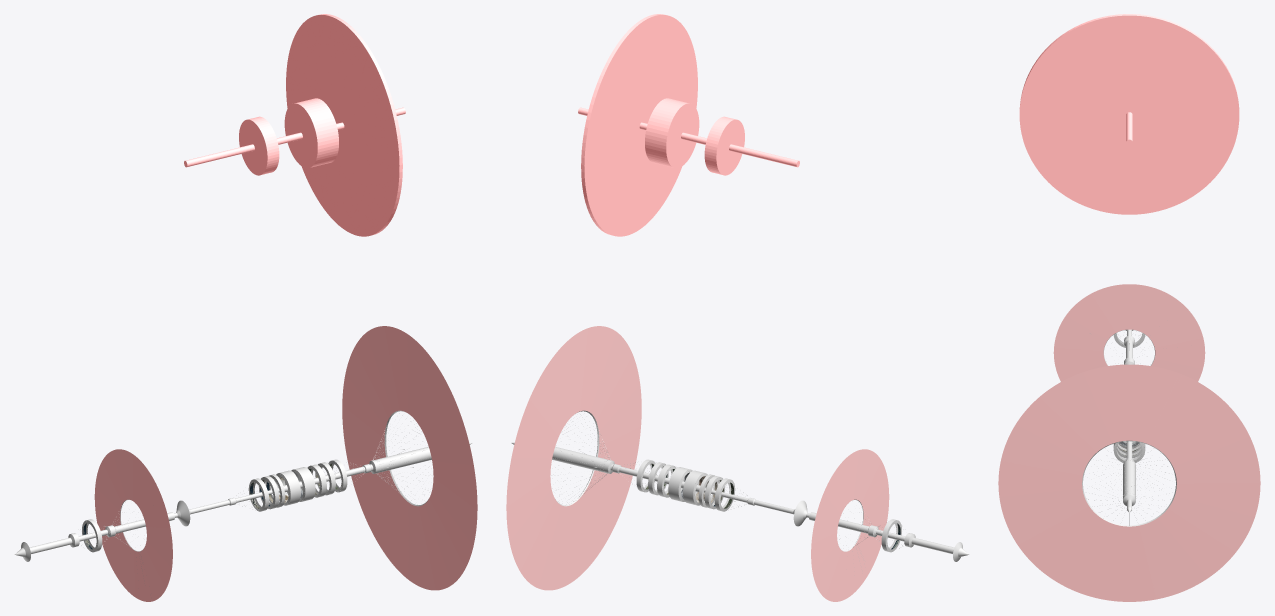
The model's file is Coriolis6.glb.
The picture shows the model from 3 angles, left to right: view 1: azimuth 30°, elevation 25°; view 2: azimuth 150°, elevation 25°; view 3: azimuth 270°, elevation 25°; orthographic projection. The views are drawn at different scales.
Parts seen in each view (by area): view 1: Coriolis, low polly coriolis Copy 1 - mini-station; view 2: Coriolis, low polly coriolis Copy 1 - mini-station; view 3: Coriolis, low polly coriolis Copy 1 - mini-station.
Part boxes in pixels (<box>): Coriolis: <box>14,326,477,601</box>; low polly coriolis Copy 1 - mini-station: <box>184,14,405,236</box>; Coriolis: <box>506,326,969,601</box>; low polly coriolis Copy 1 - mini-station: <box>578,14,799,236</box>; Coriolis: <box>998,284,1260,601</box>; low polly coriolis Copy 1 - mini-station: <box>1019,14,1239,214</box>.
Size of the model in its own units: 276 by 330 by 141.
Materials: 4 (1 with a texture image).
